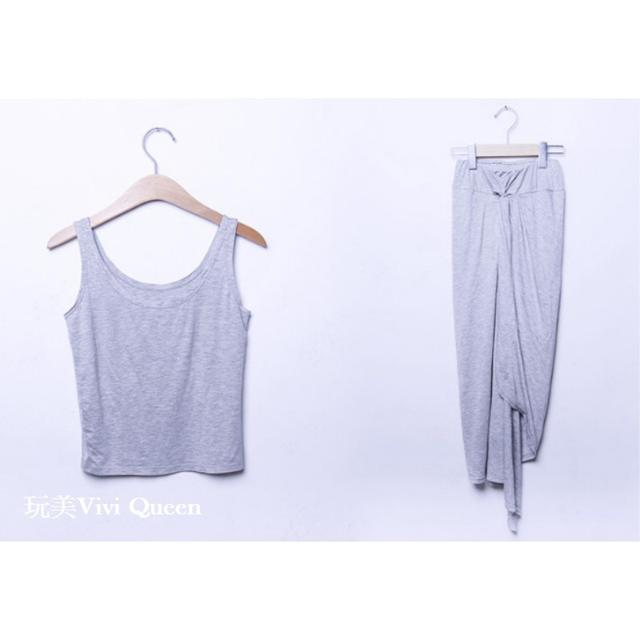Pants_Leggings: (453, 154, 566, 492)
Tops: (67, 214, 255, 479)
